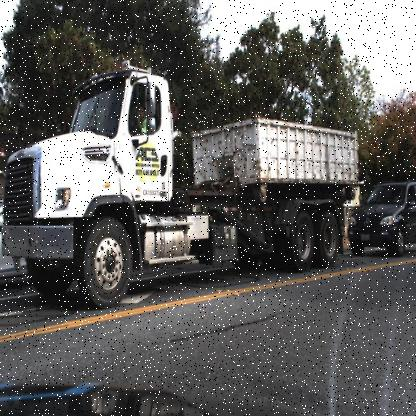car: (346, 178, 416, 265)
truck: (0, 61, 361, 308)
